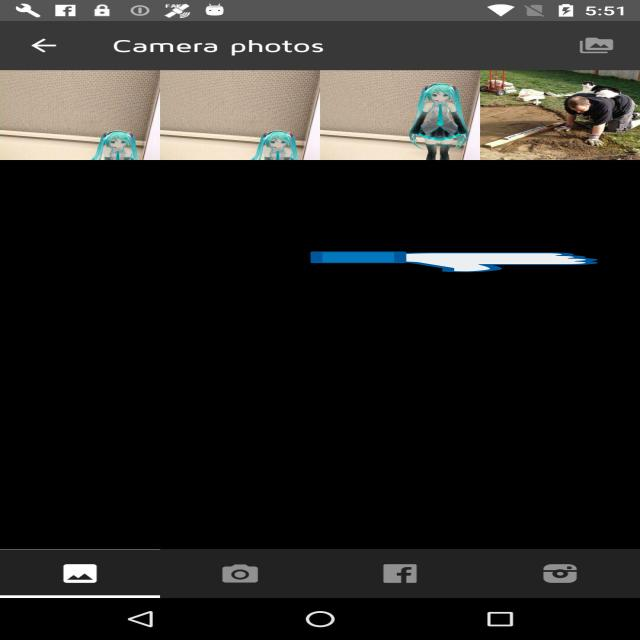obstruction: (310, 251, 598, 273)
